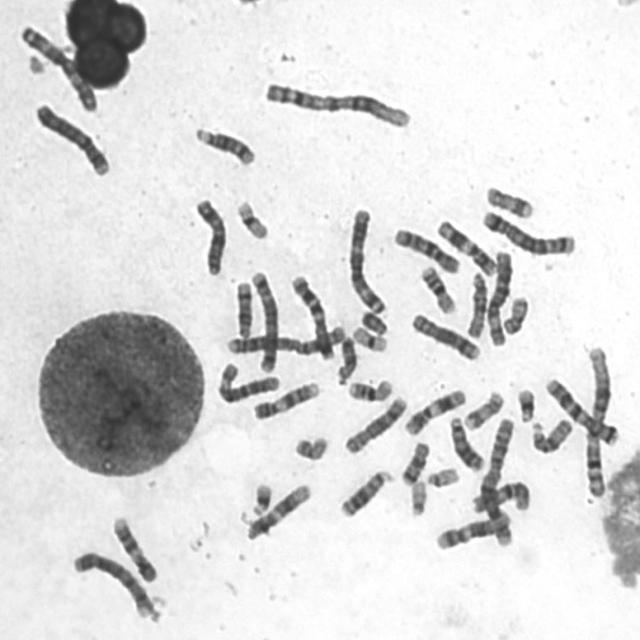A1: (260, 76, 413, 132), (580, 342, 614, 499)
A2: (477, 412, 518, 548), (222, 320, 348, 358)
A3: (15, 20, 100, 114), (344, 204, 389, 317)
B4: (31, 98, 112, 179), (68, 546, 155, 621)
B5: (478, 206, 578, 257), (247, 265, 280, 375)
C10: (389, 223, 462, 276), (468, 477, 532, 516)
C11: (432, 215, 499, 278), (401, 385, 468, 438)
C12: (242, 479, 314, 541), (431, 510, 513, 552)
C6: (483, 246, 515, 348), (213, 358, 282, 405)
C7: (541, 373, 621, 447), (287, 270, 337, 362)
C8: (340, 391, 409, 457), (406, 309, 482, 362)
C9: (108, 511, 158, 584), (250, 378, 322, 422)
D13: (336, 465, 396, 519), (445, 412, 486, 474)
D14: (190, 122, 258, 168), (232, 278, 254, 340)
D15: (527, 414, 574, 456), (463, 268, 489, 340)
E16: (417, 261, 458, 316), (344, 374, 395, 403)
E17: (460, 386, 506, 431), (482, 181, 535, 220)
E18: (398, 438, 430, 487), (332, 330, 358, 385)
F19: (232, 196, 270, 242), (349, 322, 390, 354)
F20: (499, 292, 530, 336), (290, 430, 331, 462)
G21: (246, 478, 274, 517), (513, 384, 537, 423)
G22: (422, 462, 461, 488), (406, 476, 429, 518)
X: (190, 194, 228, 278)
Y: (357, 307, 389, 337)
